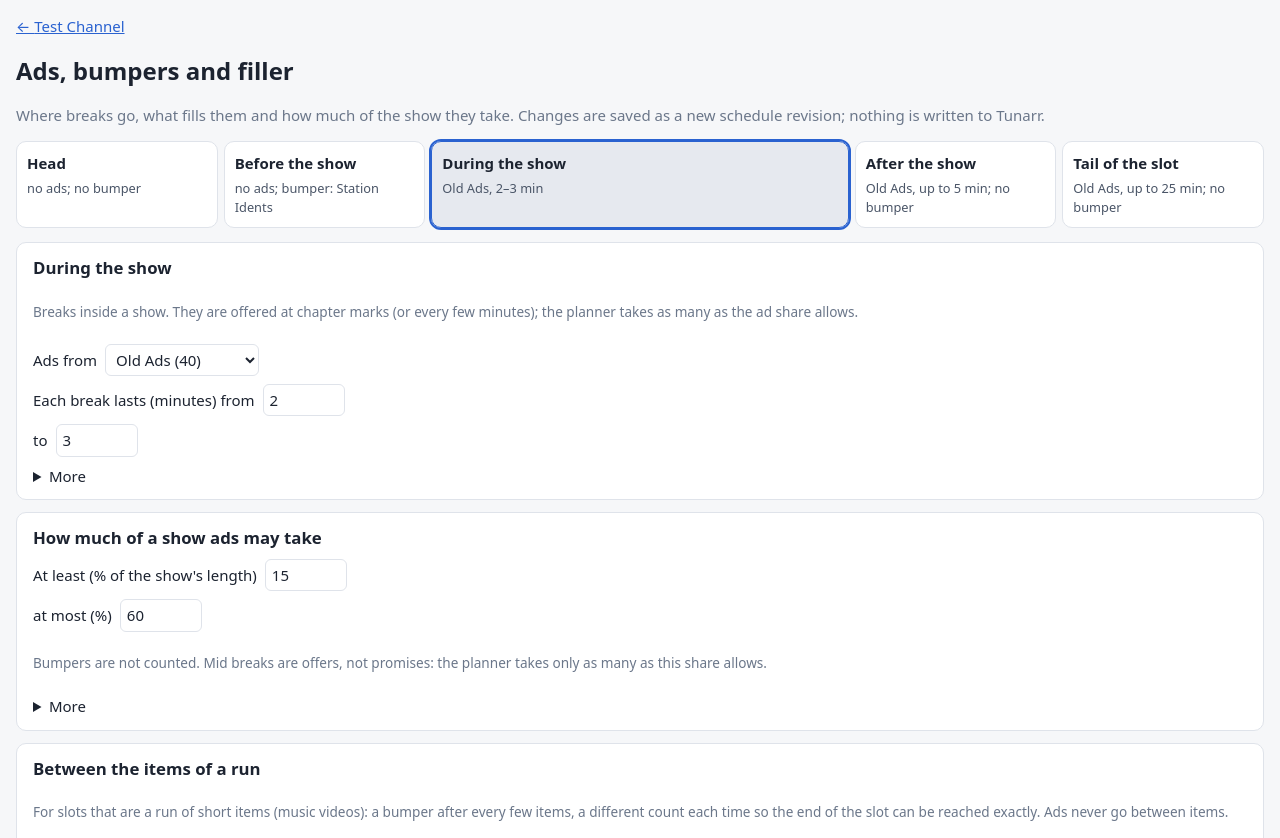
Test: the ads page › refuses to save over locked slots until told to, and then saves anyway
This screenshot has width=1280, height=838.
Expected: the element named "A block" is shown, [16, 141, 1264, 228]
Replace the text in the number field labelled "At least (% of the show's length)" with "10". click: (306, 575)
box: [265, 558, 347, 591]
(page scrolled)
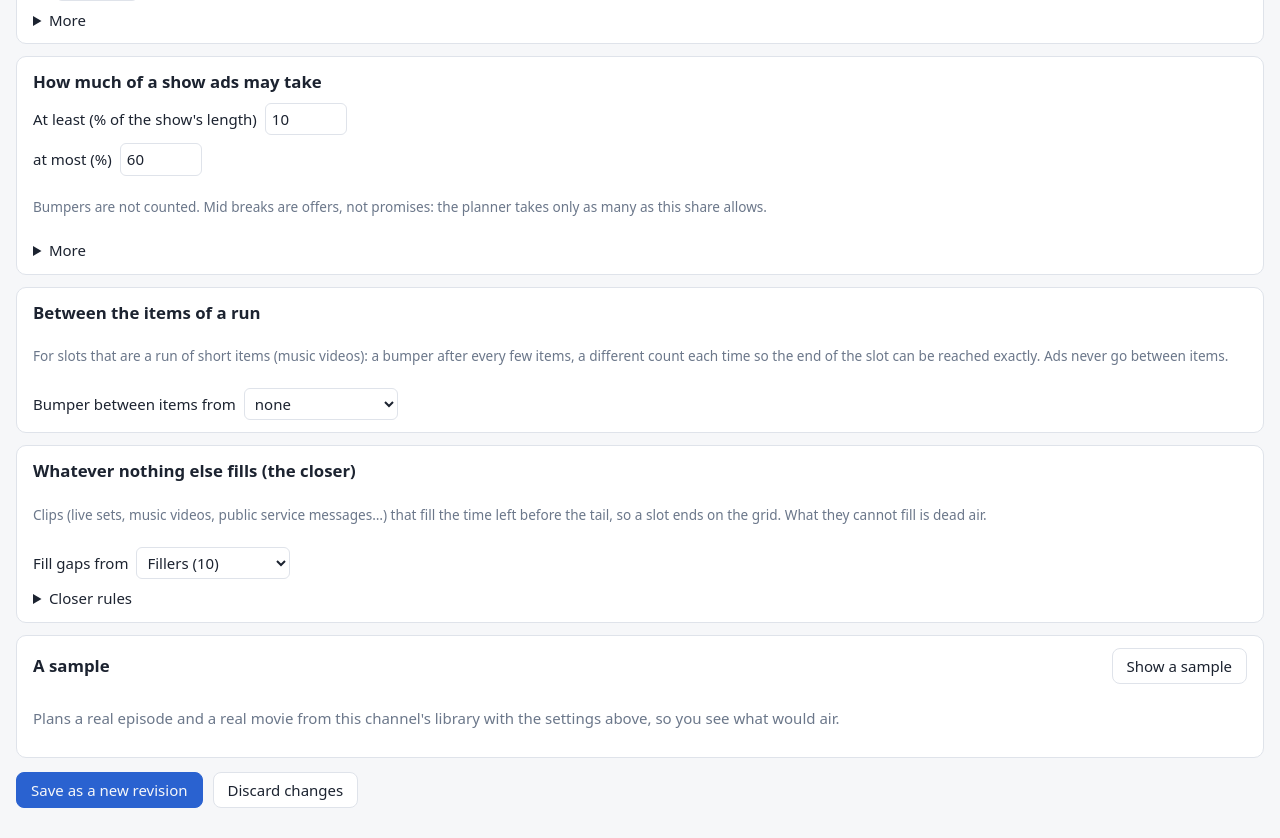
Click the button "Save as a new revision". click: (109, 790)
box: [16, 772, 202, 808]
(page scrolled)
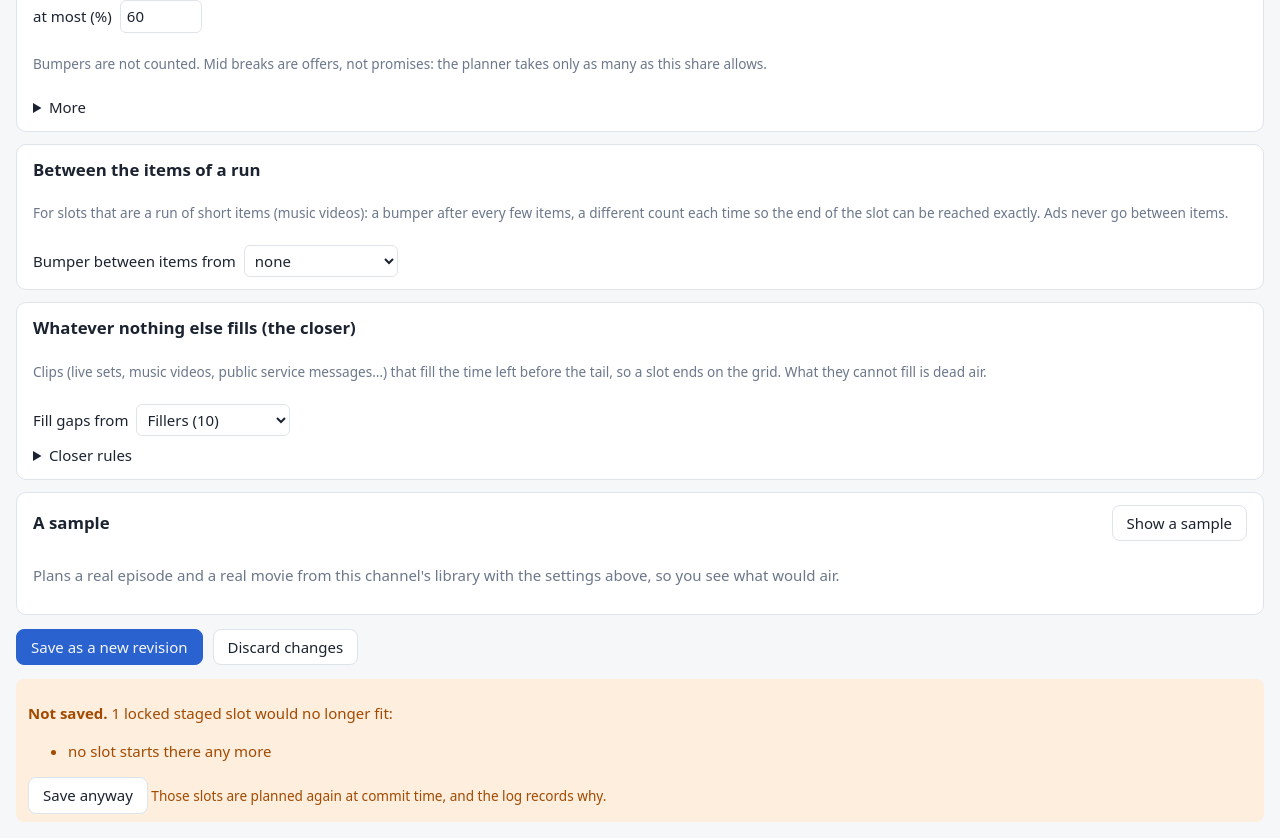
Expected: the message shows "Not saved", [28, 703, 108, 723]
Expected: the message shows "1 locked staged slot would no longer fit", [16, 679, 1264, 822]
Expected: the message shows "no slot starts there any more", [68, 741, 272, 761]
Click the button "Save anyway". click: (88, 795)
box: [28, 777, 148, 814]
(page scrolled)
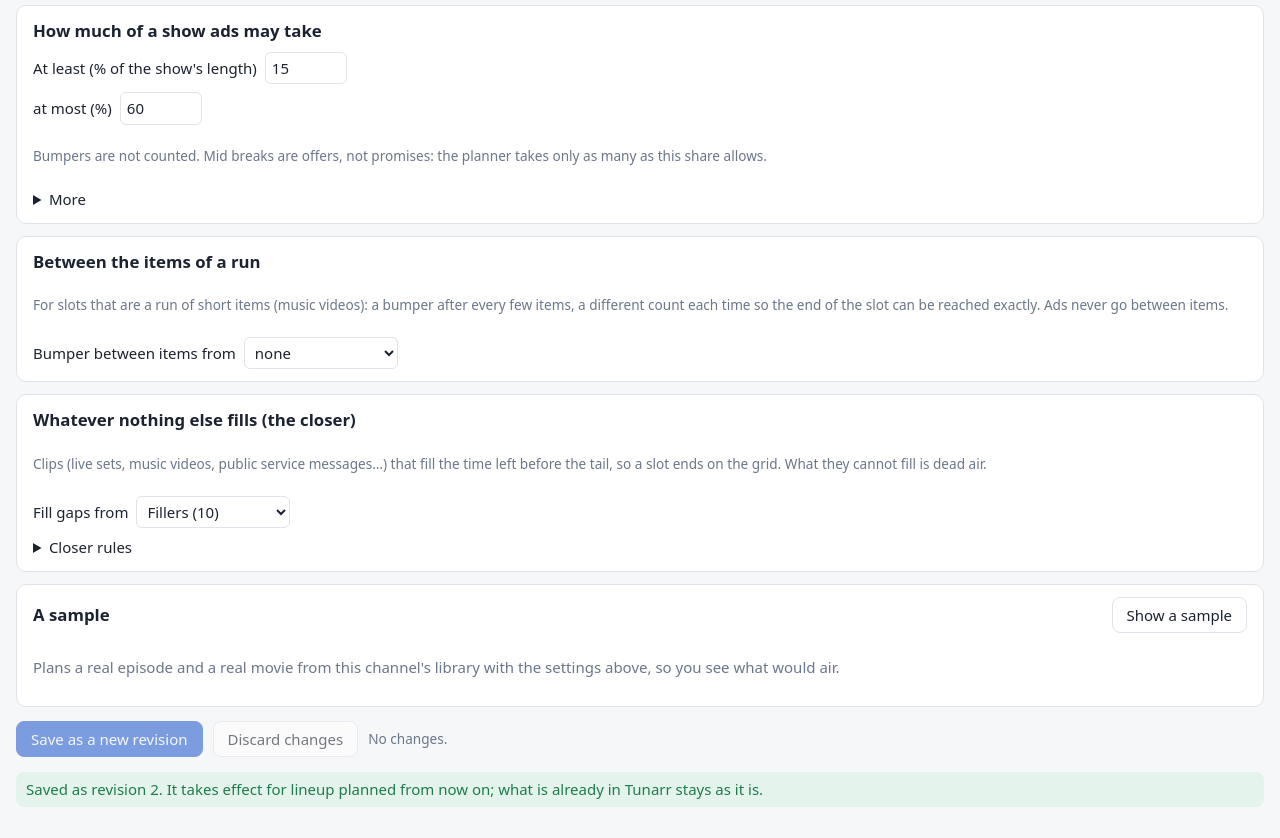
Expected: the text "Saved as revision 2" is shown, [16, 772, 1264, 807]
